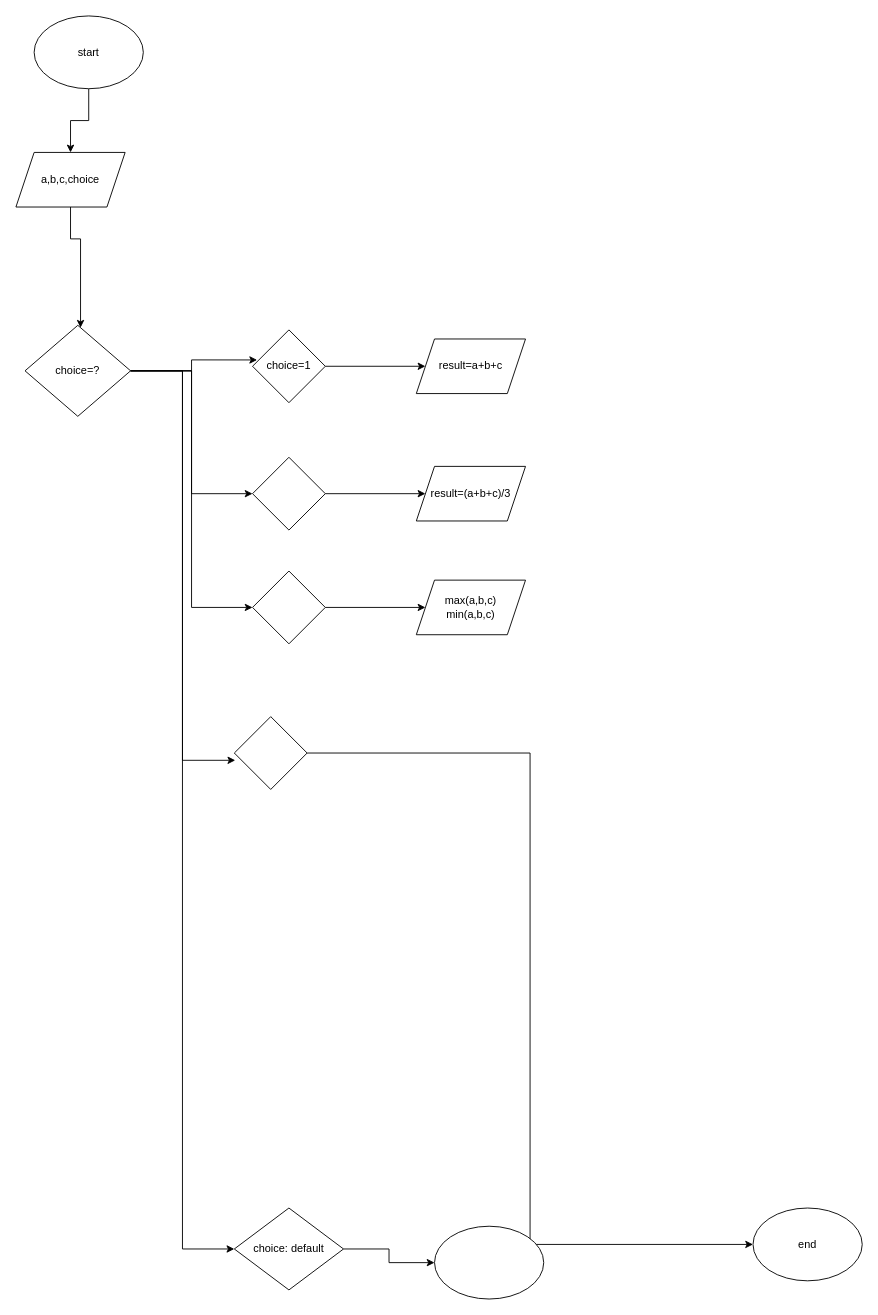
The diagram is 878 pixels wide and 1315 high, and some of its shapes have lost their labels. The centre of each missing label's shape, as x and y in pixels:
( "Vui long chon tu 1-4" ): point 489,1262
choice=2: point 288,493
choice=3: point 288,607
choice=4: point 270,752
